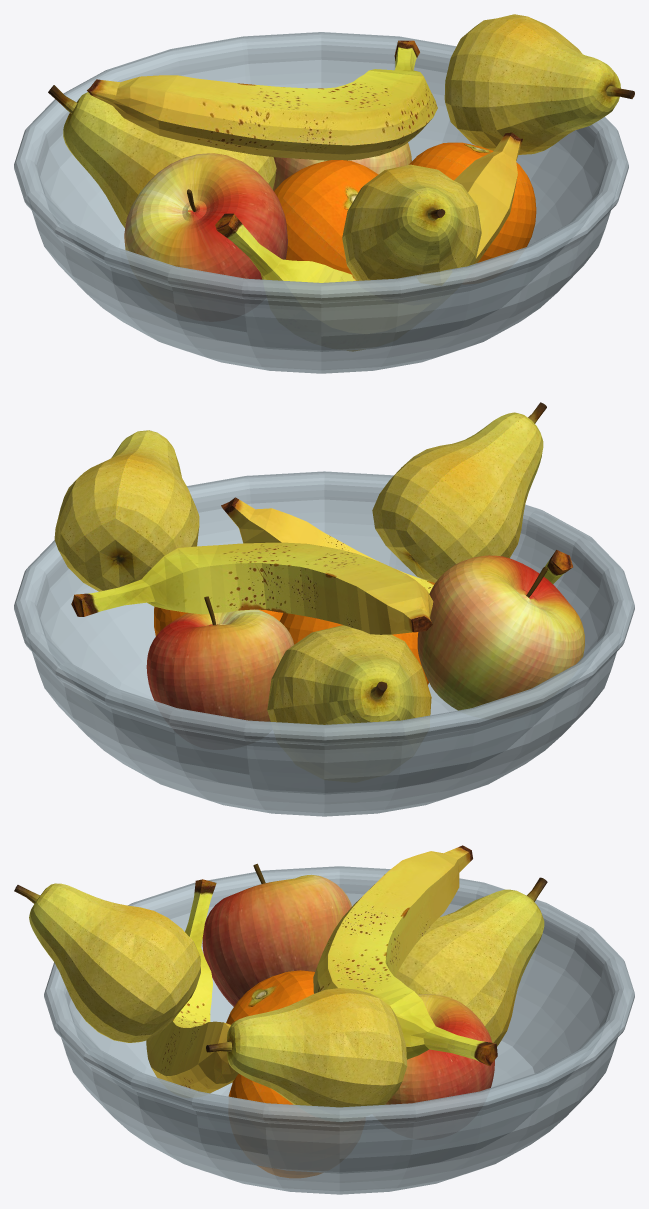
The model's file is bowlWithFruits.obj.
3 views of the same model, one above another, from view 1: azimuth 30°, elevation 25°; view 2: azimuth 150°, elevation 25°; view 3: azimuth 270°, elevation 25° (orthographic). The views are drawn at different scales.
Parts seen in each view (by area): view 1: bowl_jar_Plane, banana.001, pear.002, apple_apple2_Tube.002, pear.001, pear, banana.002, orange.001_Cube.003, orange_Cube, apple.001_apple2_Tube.001; view 2: bowl_jar_Plane, banana.001, apple_apple2_Tube.002, pear.001, pear.002, pear, apple.001_apple2_Tube.001, banana.002, orange.001_Cube.003, orange_Cube; view 3: bowl_jar_Plane, pear.001, pear.002, banana.001, pear, apple_apple2_Tube.002, banana.002, apple.001_apple2_Tube.001, orange.001_Cube.003, orange_Cube.
Boxes of the visible parts, <box> form: bowl_jar_Plane: <box>14,32,628,373</box>; banana.001: <box>87,40,437,160</box>; pear.002: <box>444,14,634,154</box>; apple_apple2_Tube.002: <box>124,153,287,279</box>; pear.001: <box>342,164,481,285</box>; pear: <box>48,85,276,228</box>; banana.002: <box>215,132,522,351</box>; orange.001_Cube.003: <box>274,160,378,274</box>; orange_Cube: <box>409,142,536,262</box>; apple.001_apple2_Tube.001: <box>273,142,411,190</box>; bowl_jar_Plane: <box>14,471,634,816</box>; banana.001: <box>71,542,433,634</box>; apple_apple2_Tube.002: <box>417,555,584,710</box>; pear.001: <box>372,402,546,582</box>; pear.002: <box>54,430,199,591</box>; pear: <box>267,625,431,724</box>; apple.001_apple2_Tube.001: <box>146,596,294,721</box>; banana.002: <box>221,497,572,593</box>; orange.001_Cube.003: <box>279,613,428,684</box>; orange_Cube: <box>154,606,283,635</box>; bowl_jar_Plane: <box>44,866,634,1194</box>; pear.001: <box>14,883,200,1042</box>; pear.002: <box>206,988,407,1107</box>; banana.001: <box>313,845,497,1066</box>; pear: <box>395,877,547,1046</box>; apple_apple2_Tube.002: <box>202,863,351,1006</box>; banana.002: <box>146,879,238,1093</box>; apple.001_apple2_Tube.001: <box>385,994,494,1104</box>; orange.001_Cube.003: <box>226,970,314,1024</box>; orange_Cube: <box>228,1074,321,1177</box>.
Size of the model in its own units: 31.99 by 14.06 by 33.62.
